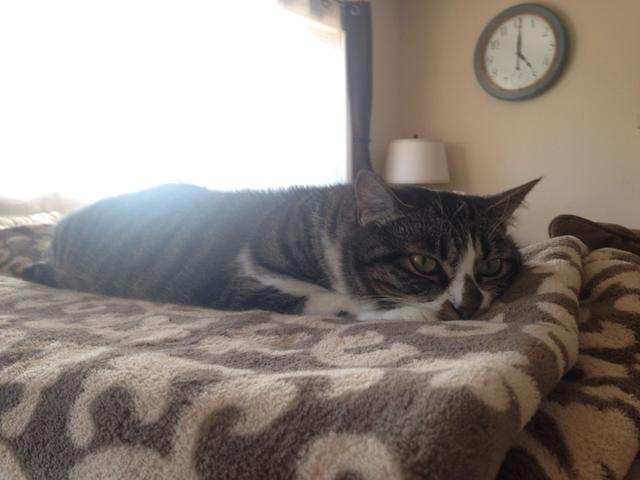playdoh: (48, 173, 546, 321)
